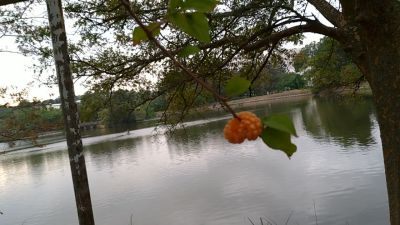eggs: (224, 109, 265, 146)
